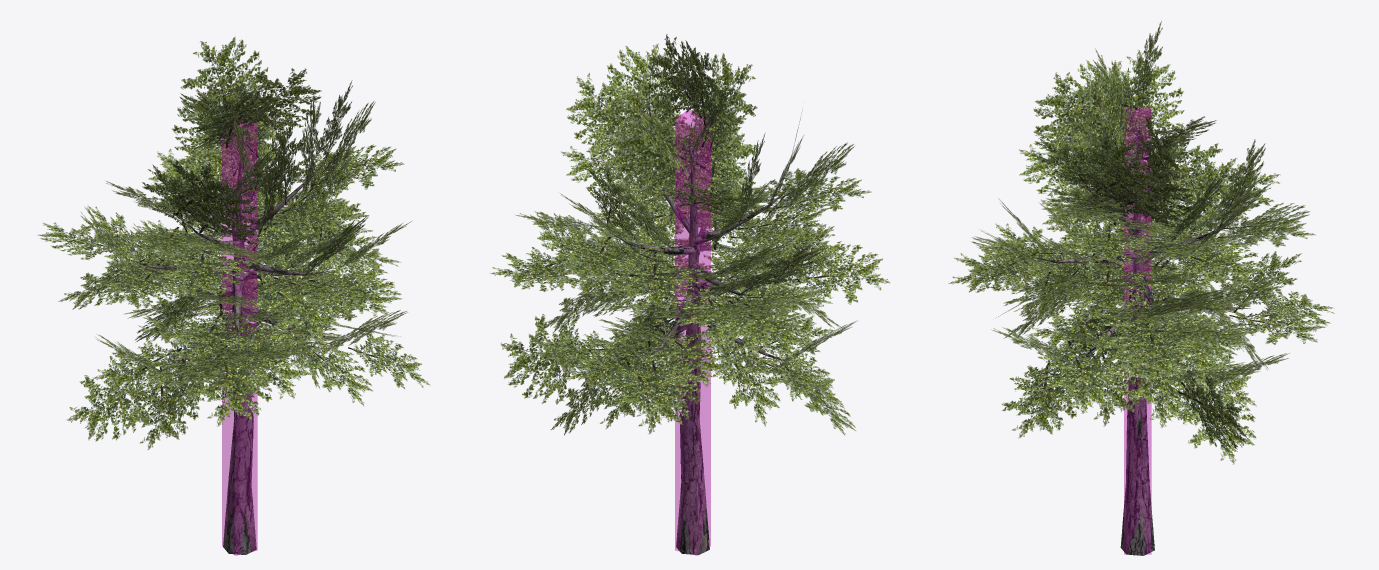
The model's file is tree_low-poly.glb.
3 views of the same model, side by side, from view 1: azimuth 30°, elevation 25°; view 2: azimuth 150°, elevation 25°; view 3: azimuth 270°, elevation 25° (orthographic).
Parts seen in each view (by area): view 1: leaves, col_column_01, tree; view 2: leaves, col_column_01, tree; view 3: leaves, tree, col_column_01.
Part boxes in pixels (box(x1,y1,x2,y2)): leaves: box(37, 36, 430, 449); col_column_01: box(222, 120, 257, 555); tree: box(128, 131, 345, 554); leaves: box(490, 34, 889, 435); col_column_01: box(675, 110, 710, 555); tree: box(594, 117, 790, 554); leaves: box(948, 21, 1334, 464); tree: box(1033, 118, 1250, 555); col_column_01: box(1124, 108, 1151, 554).
Size of the model in its own units: 1752 by 2471 by 1796.
3 materials, 2 textured.
